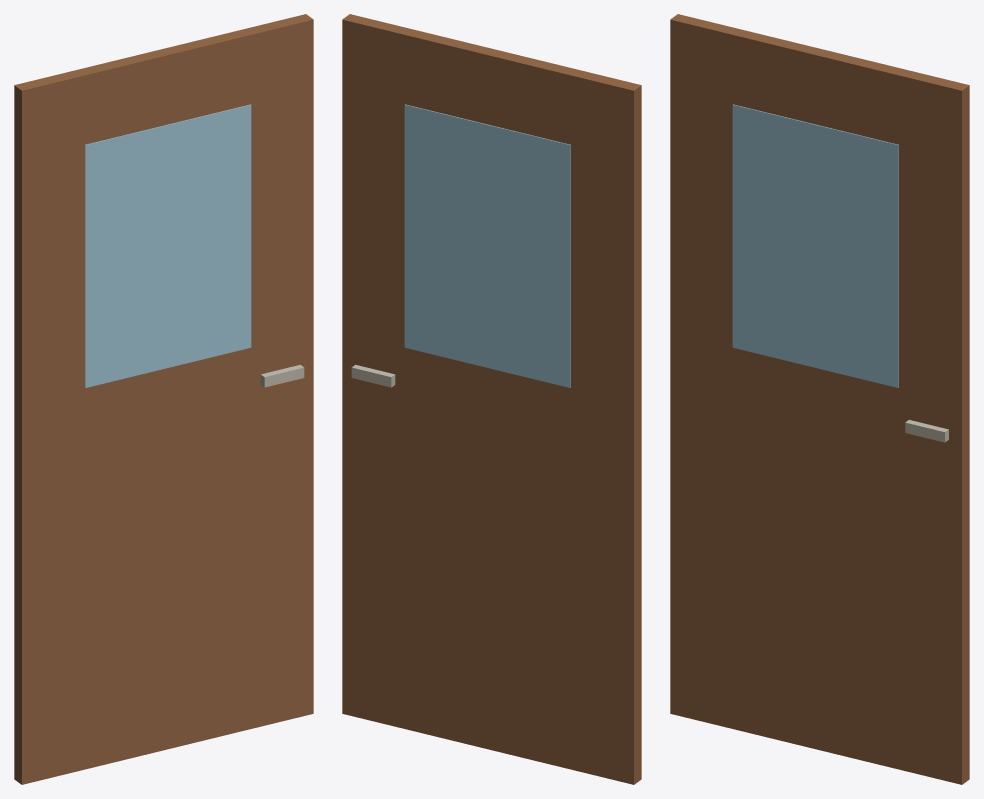
Rendered from door-panel.glb.
3 renders of one model, left to right at view 1: azimuth 30°, elevation 25°; view 2: azimuth 150°, elevation 25°; view 3: azimuth 330°, elevation 25°, orthographic.
Visible parts, largest first — view 1: panel, window, handle; view 2: panel, window, handle; view 3: panel, window, handle.
Boxes of the visible parts, x1=… form: panel: x1=14, y1=14, x2=313, y2=784; window: x1=85, y1=104, x2=251, y2=387; handle: x1=260, y1=364, x2=304, y2=387; panel: x1=342, y1=14, x2=641, y2=784; window: x1=404, y1=104, x2=570, y2=387; handle: x1=351, y1=364, x2=395, y2=387; panel: x1=670, y1=14, x2=969, y2=784; window: x1=732, y1=104, x2=898, y2=387; handle: x1=905, y1=420, x2=948, y2=442.
Size of the model in its own units: 0.88 by 2 by 0.08.
